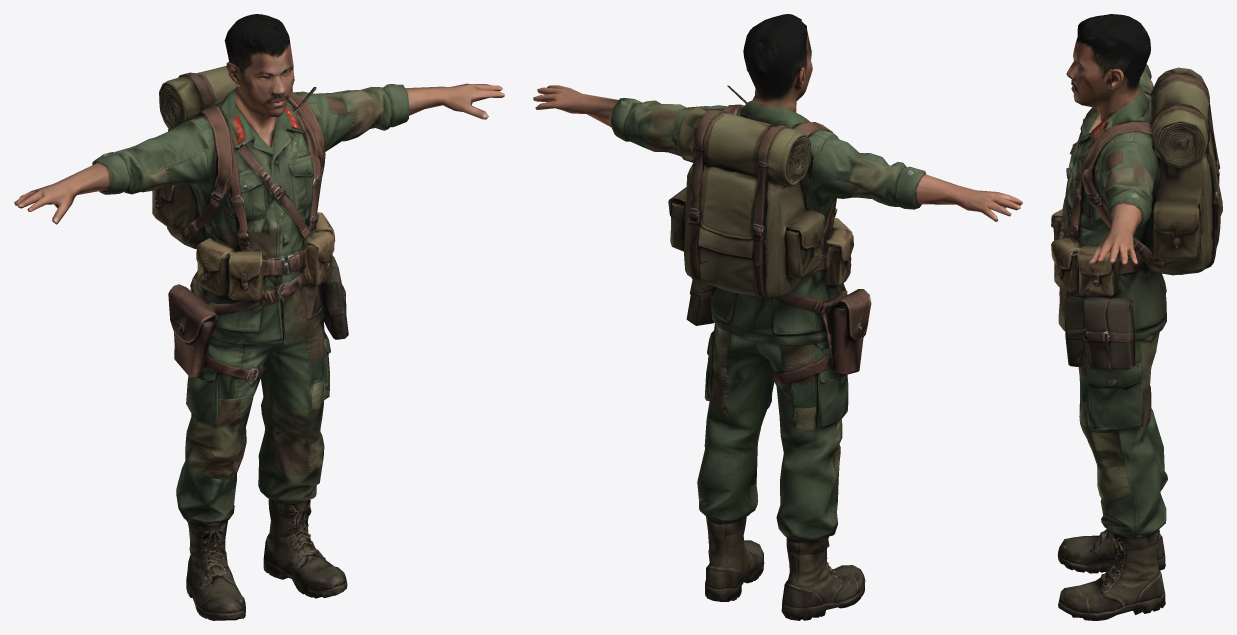
The picture shows the model from 3 angles, left to right: view 1: azimuth 30°, elevation 25°; view 2: azimuth 150°, elevation 25°; view 3: azimuth 270°, elevation 25°; orthographic projection.
Visible parts, largest first — view 1: tripo_node_17870f24-b4e6-4bd0-ad55-487c25966c5f; view 2: tripo_node_17870f24-b4e6-4bd0-ad55-487c25966c5f; view 3: tripo_node_17870f24-b4e6-4bd0-ad55-487c25966c5f.
Part boxes in pixels (x1=…): tripo_node_17870f24-b4e6-4bd0-ad55-487c25966c5f: x1=14, y1=14, x2=504, y2=620; tripo_node_17870f24-b4e6-4bd0-ad55-487c25966c5f: x1=533, y1=14, x2=1022, y2=620; tripo_node_17870f24-b4e6-4bd0-ad55-487c25966c5f: x1=1051, y1=14, x2=1222, y2=620.
Bounding box in the file's own units: 0.8614 × 0.9787 × 0.2661.
1 material, 1 textured.
